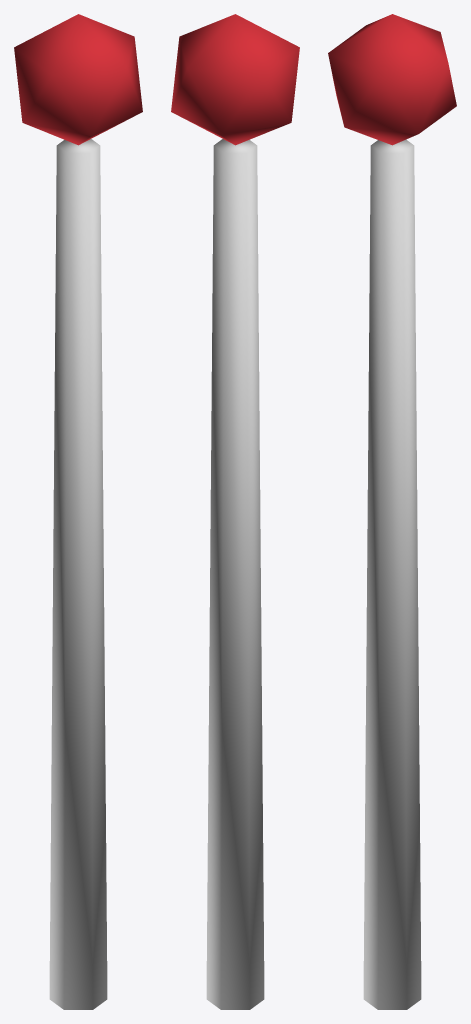
File: crimson_rod.glb
3 renders of one model, left to right at view 1: azimuth 30°, elevation 25°; view 2: azimuth 150°, elevation 25°; view 3: azimuth 330°, elevation 25°, orthographic.
Visible parts, largest first — view 1: crimson_rod_v0; view 2: crimson_rod_v0; view 3: crimson_rod_v0.
Boxes of the visible parts, x1=… form: crimson_rod_v0: x1=14, y1=14, x2=142, y2=1009; crimson_rod_v0: x1=171, y1=14, x2=299, y2=1009; crimson_rod_v0: x1=328, y1=14, x2=456, y2=1009.
Bounding box in the file's own units: 0.0716 × 0.6 × 0.0681.
